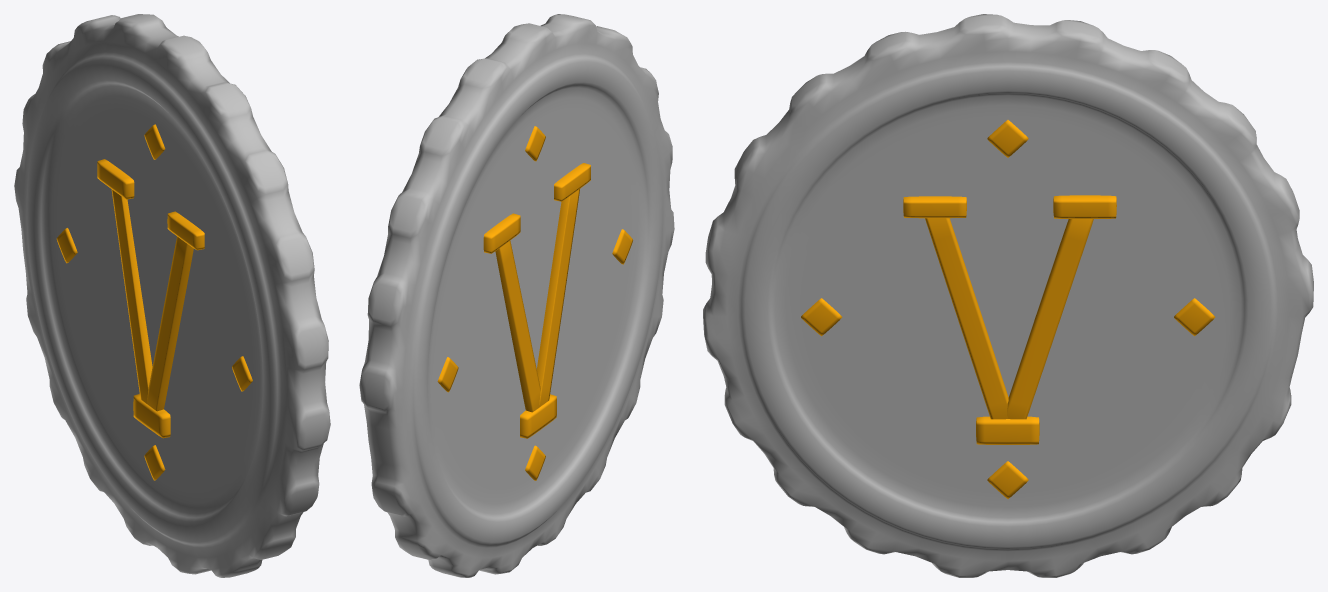
Rendered from RomanCoin.fbx.
3 views of the same model, side by side, from view 1: azimuth 30°, elevation 25°; view 2: azimuth 150°, elevation 25°; view 3: azimuth 270°, elevation 25° (orthographic). The views are drawn at different scales.
Parts seen in each view (by area): view 1: pCylinder5, pCube8, pCube10, pCube9, pCube11, pCube7, pCube15, pCube12, pCube13, pCube14; view 2: pCylinder5, pCube8, pCube10, pCube9, pCube11, pCube7, pCube15, pCube12, pCube14, pCube13; view 3: pCylinder5, pCube10, pCube8, pCube9, pCube11, pCube7, pCube12, pCube13, pCube15, pCube14.
Boxes of the visible parts, x1,y1,x2,y2 form: pCylinder5: (14,14,330,577); pCube8: (147,236,193,411); pCube10: (111,189,152,403); pCube9: (133,394,170,438); pCube11: (97,159,134,199); pCube7: (167,211,204,250); pCube15: (56,228,77,263); pCube12: (144,124,165,159); pCube13: (144,445,165,480); pCube14: (232,356,252,391); pCylinder5: (359,14,674,577); pCube8: (537,189,579,406); pCube10: (495,241,540,412); pCube9: (520,394,556,438); pCube11: (483,213,520,253); pCube7: (554,163,590,201); pCube15: (437,357,458,392); pCube12: (525,126,545,161); pCube14: (612,229,632,264); pCube13: (525,445,545,480); pCylinder5: (703,14,1313,577); pCube10: (1007,219,1093,419); pCube8: (925,218,1008,419); pCube9: (976,416,1039,444); pCube11: (1053,195,1116,218); pCube7: (903,196,966,218); pCube12: (987,120,1028,157); pCube13: (987,461,1028,498); pCube15: (1174,298,1215,336); pCube14: (801,298,842,336).
Size of the model in its own units: 0.3021 by 2.93 by 2.94.
